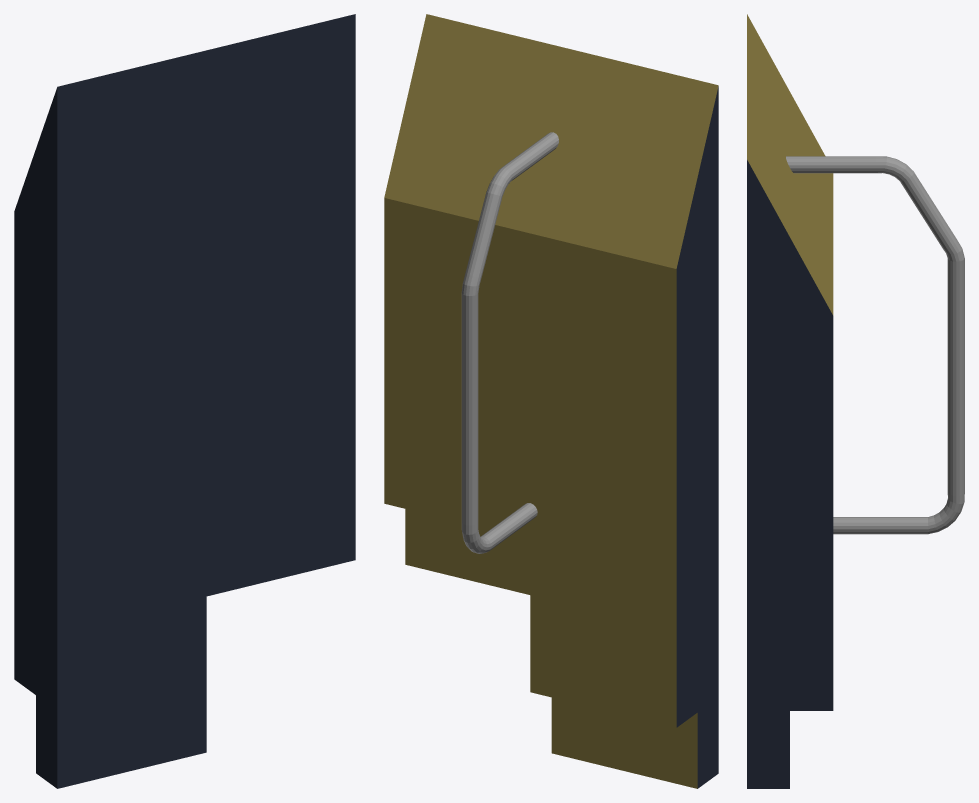
Rendered from Box Offset Stair W Railing Middle.fbx.
The picture shows the model from 3 angles, left to right: view 1: azimuth 30°, elevation 25°; view 2: azimuth 150°, elevation 25°; view 3: azimuth 270°, elevation 25°; orthographic projection. The views are drawn at different scales.
Visible parts, largest first — view 1: Box Offset Stair W Railing Middle; view 2: Box Offset Stair W Railing Middle; view 3: Box Offset Stair W Railing Middle.
Part boxes in pixels (x1,y1,x2,y2): Box Offset Stair W Railing Middle: (14,14,355,788); Box Offset Stair W Railing Middle: (384,14,718,788); Box Offset Stair W Railing Middle: (747,14,964,788).
Bounding box in the file's own units: 800 × 1800 × 506.
